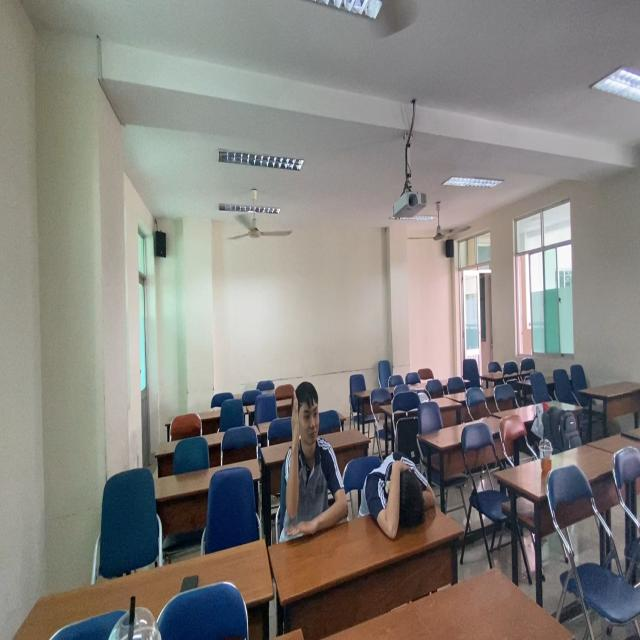raise_hand: (286, 380, 345, 550)
sleep: (364, 452, 439, 538)
